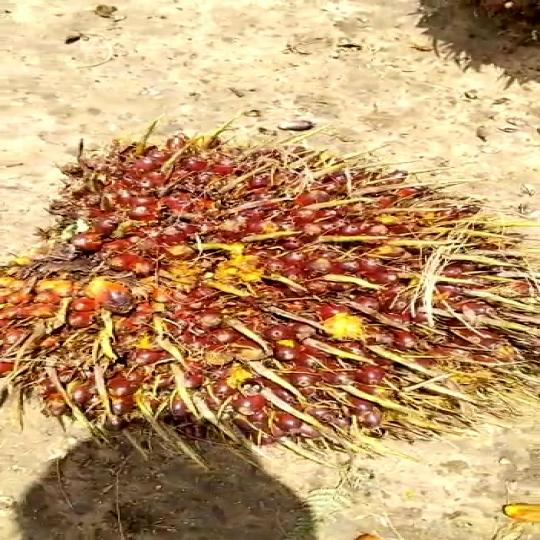masak: (0, 117, 540, 459)
